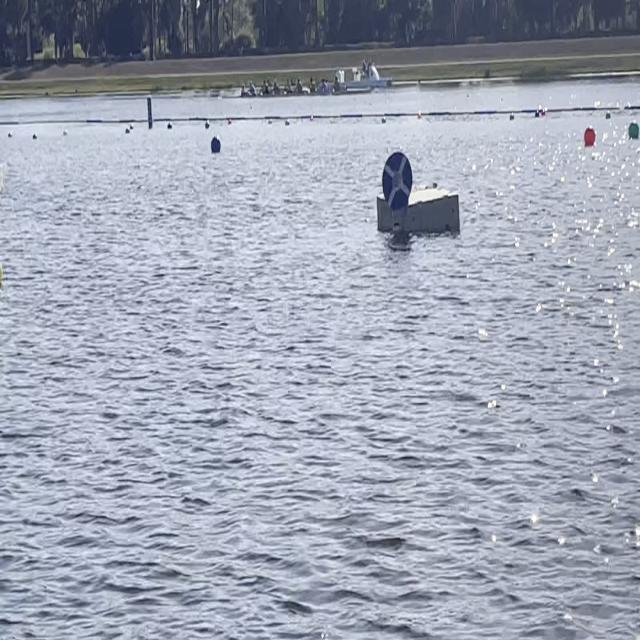buoy: (584, 126, 596, 146), (211, 136, 221, 152), (628, 122, 638, 138)
